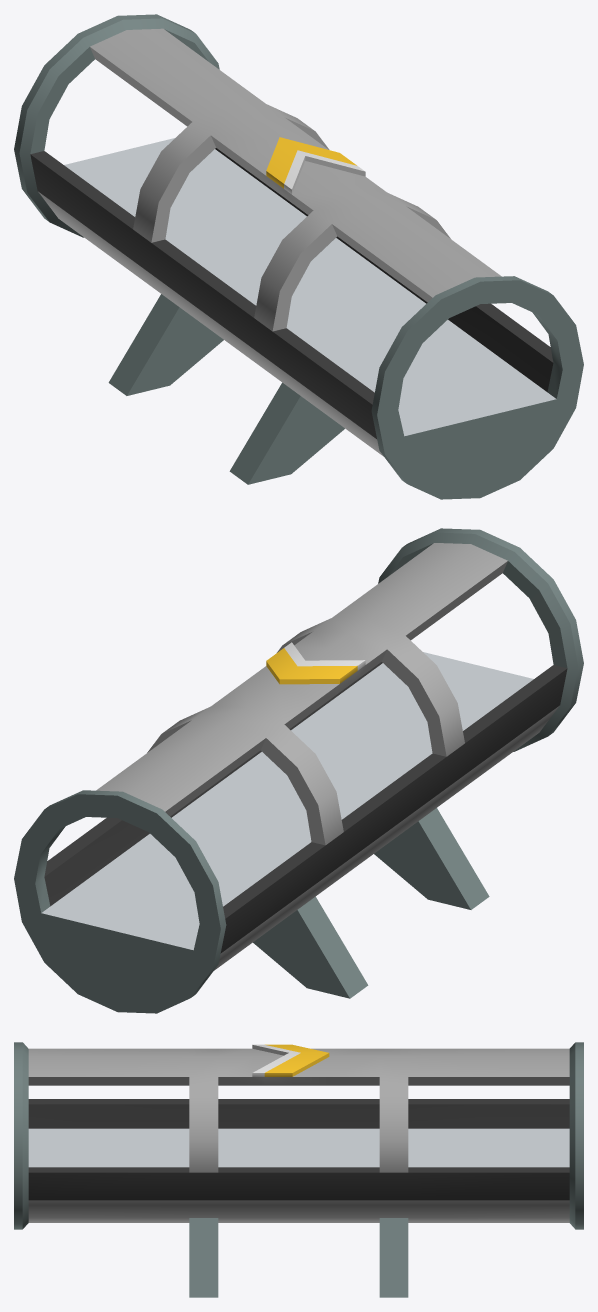
File: m_ConveyorHousing.fbx
The picture shows the model from 3 angles, top to bottom: view 1: azimuth 30°, elevation 25°; view 2: azimuth 150°, elevation 25°; view 3: azimuth 270°, elevation 25°; orthographic projection. The views are drawn at different scales.
Parts seen in each view (by area): view 1: ConveyorHousing; view 2: ConveyorHousing; view 3: ConveyorHousing.
Boxes of the visible parts, <box> form: ConveyorHousing: <box>14,14,583,499</box>; ConveyorHousing: <box>14,528,583,1013</box>; ConveyorHousing: <box>14,1042,583,1297</box>.
Size of the model in its own units: 38.42 by 38.83 by 100.
